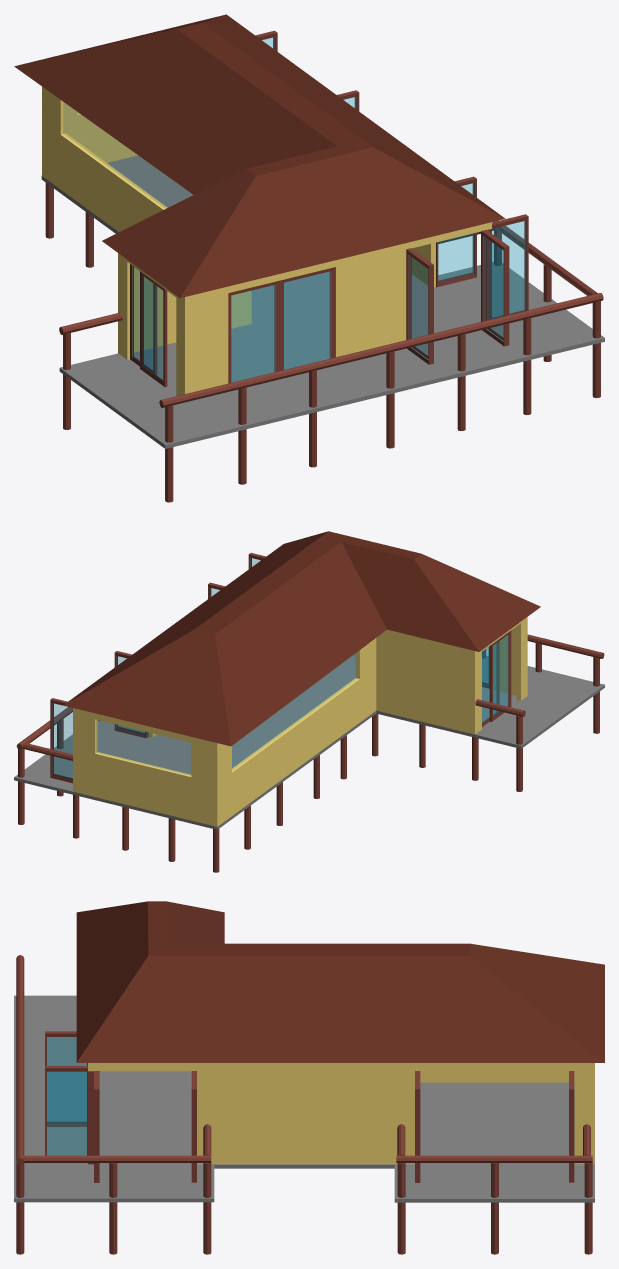
The model's file is Savanna Base.fbx.
3 views of the same model, one above another, from view 1: azimuth 30°, elevation 25°; view 2: azimuth 150°, elevation 25°; view 3: azimuth 270°, elevation 25° (orthographic). The views are drawn at different scales.
Visible parts, largest first — view 1: Cube.011, Floor, Cube.003, Cube, Cube.001, Log.004, Plane, Cube.006, Cube.004, Cube.009, Cube.002, Cube.010 (+10 smaller); view 2: Cube.011, Cube.003, Floor, Plane, Plane.001, Cube.008, Cube.009, Cube.010, Log.004, Log.020, Log.009, Log.012; view 3: Cube.011, Floor, Cube.003, Cube.004, Cube.002, Log.004, Log.015, Log.014, Log.007, Log.008, Log.009, Log.013 (+6 smaller).
Part boxes in pixels (x1,y1,x2,y2): Cube.011: (14,14,505,297); Floor: (41,155,604,448); Cube.003: (42,86,491,395); Cube: (280,267,335,370); Cube.001: (228,280,280,383); Log.004: (159,293,603,407); Plane: (64,103,192,207); Cube.006: (492,214,528,318); Cube.004: (481,229,509,346); Cube.009: (140,271,167,387); Cube.002: (406,248,433,364); Cube.010: (130,264,157,375); Cube.011: (63,531,540,746); Cube.003: (73,617,527,826); Floor: (14,655,604,829); Plane: (232,652,357,769); Plane.001: (97,720,190,775); Cube.008: (50,698,72,783); Cube.009: (489,630,511,721); Cube.010: (482,641,499,726); Log.004: (527,634,604,658); Log.020: (516,715,522,791); Log.009: (18,749,24,824); Log.012: (593,657,599,733); Cube.011: (76,901,604,1062); Floor: (14,995,594,1202); Cube.003: (88,1063,594,1164); Cube.004: (45,1066,87,1155); Cube.002: (45,1031,87,1126); Log.004: (16,955,24,1165); Log.015: (396,1155,592,1162); Log.014: (23,1155,211,1162); Log.007: (109,1163,117,1254); Log.008: (203,1163,211,1254); Log.009: (584,1163,592,1254); Log.013: (397,1163,405,1254).
Bounding box in the file's own units: 2408 × 1240 × 2950.
